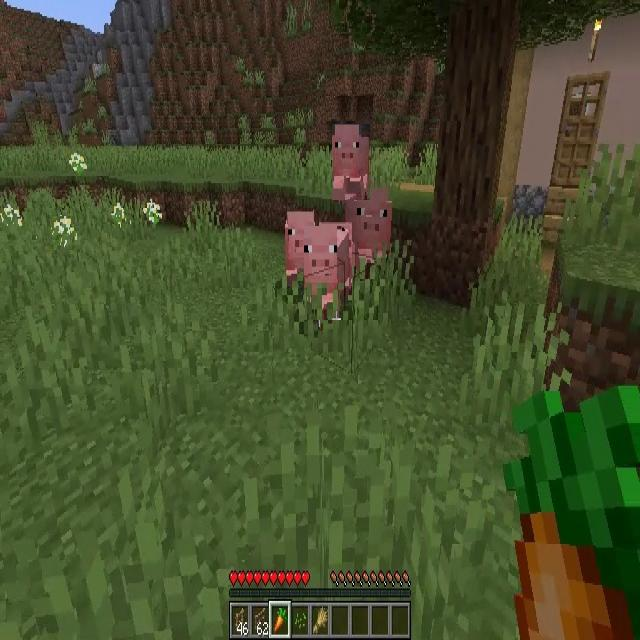flower: (52, 216, 74, 250), (68, 153, 86, 176), (2, 204, 20, 227)
pig: (304, 226, 352, 320), (349, 192, 392, 274), (285, 210, 319, 298), (332, 124, 370, 200)
